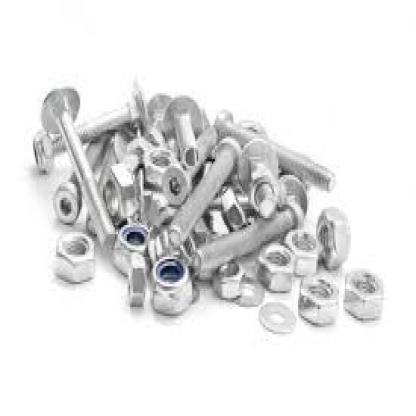METAL: (39, 84, 118, 252), (213, 105, 333, 188), (192, 200, 306, 280), (163, 136, 239, 250), (30, 102, 130, 173), (159, 118, 215, 198), (86, 84, 148, 148), (159, 93, 204, 168), (95, 162, 136, 220), (151, 255, 189, 316), (343, 268, 383, 323), (254, 236, 294, 291), (112, 218, 151, 273), (316, 207, 348, 270), (53, 230, 92, 280), (298, 275, 336, 325), (283, 227, 319, 275), (248, 168, 277, 218), (213, 257, 244, 300), (160, 161, 191, 200), (233, 266, 262, 307), (258, 298, 294, 330), (218, 186, 245, 228), (52, 180, 78, 223), (278, 177, 307, 214), (147, 143, 172, 184), (126, 252, 144, 307), (124, 132, 148, 168)
